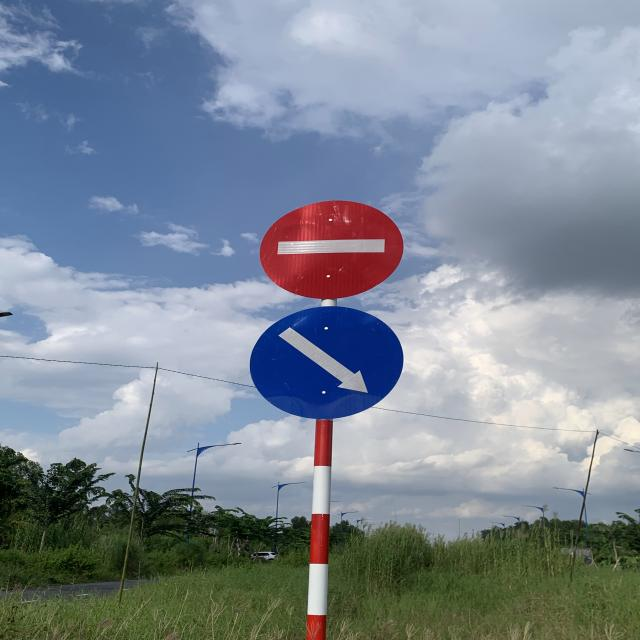Cam_Di_Nguoc_Chieu: (260, 200, 406, 298)
Chi_Huong_Di_Phai: (248, 304, 406, 421)
